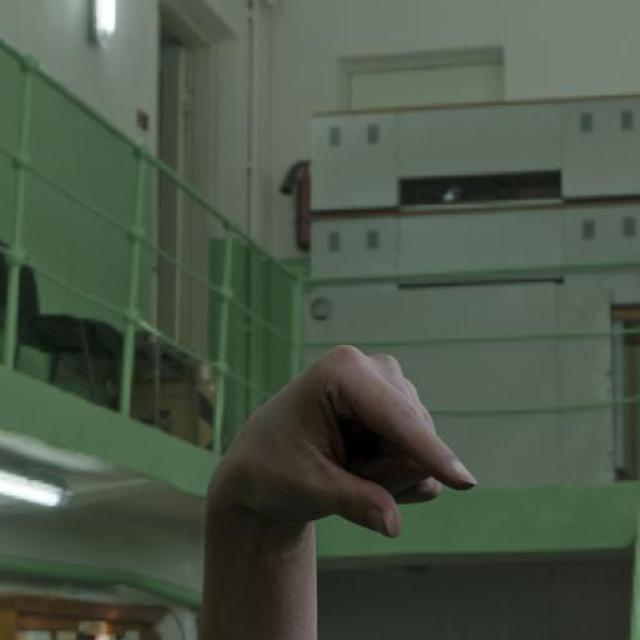Q: (200, 342, 492, 542)
